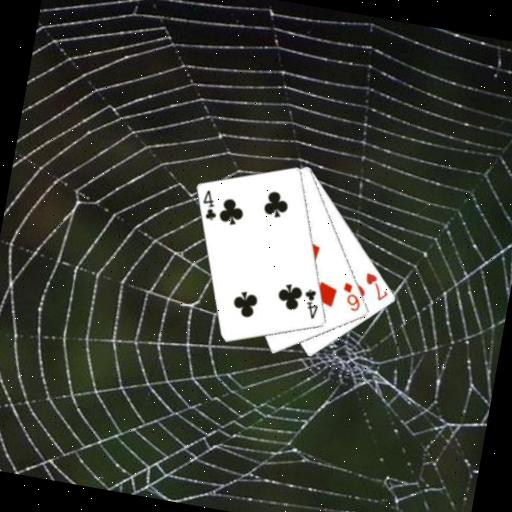4C: (197, 185, 223, 223), (297, 285, 323, 321)
6D: (336, 279, 365, 314)
7H: (358, 268, 393, 303)
